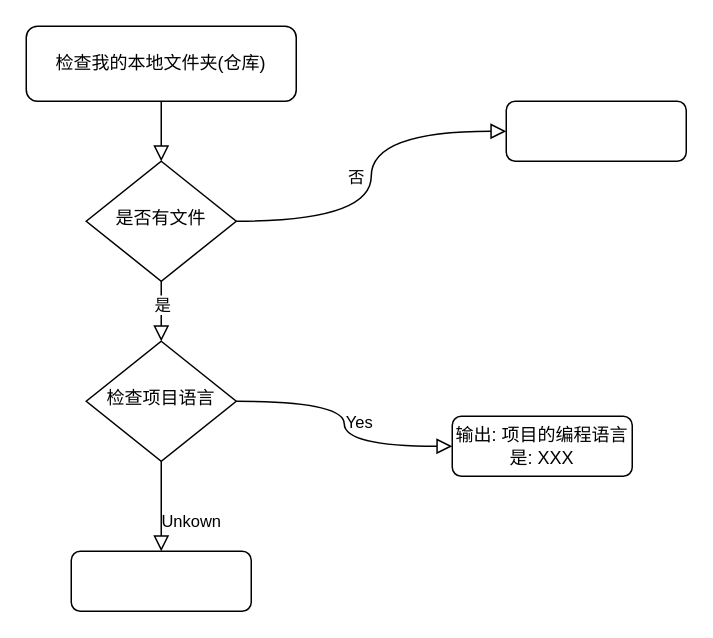
Some shapes in this 713 by 638 pixel diagram are drawn without their labels. Here are the shapes that lost their labels. From the top down, the box of each, then its label:
(505, 100, 686, 161): 输出: 无项目信息
(70, 550, 251, 611): 输出: 无法识别
